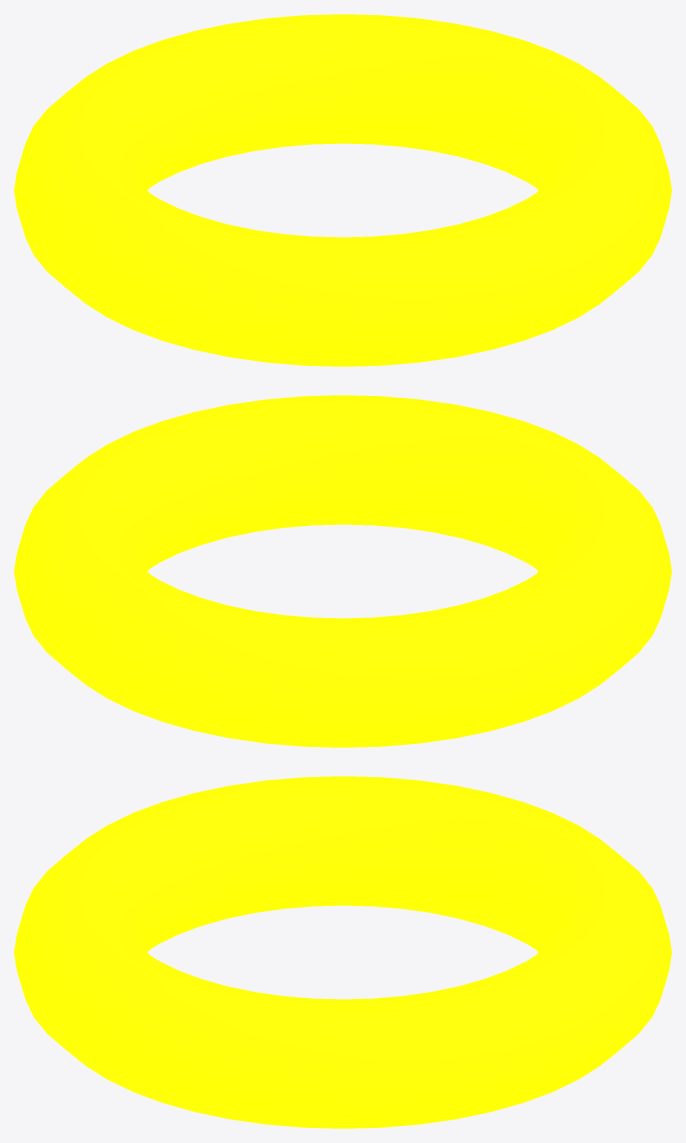
The model's file is Beam.fbx.
3 renders of one model, top to bottom at view 1: azimuth 30°, elevation 25°; view 2: azimuth 150°, elevation 25°; view 3: azimuth 270°, elevation 25°, orthographic.
Parts seen in each view (by area): view 1: Cube; view 2: Cube; view 3: Cube.
Part boxes in pixels (x1=…): Cube: x1=14, y1=14, x2=671, y2=366; Cube: x1=14, y1=395, x2=671, y2=747; Cube: x1=14, y1=776, x2=671, y2=1128.
Size of the model in its own units: 0.2748 by 0.0543 by 0.2748.
